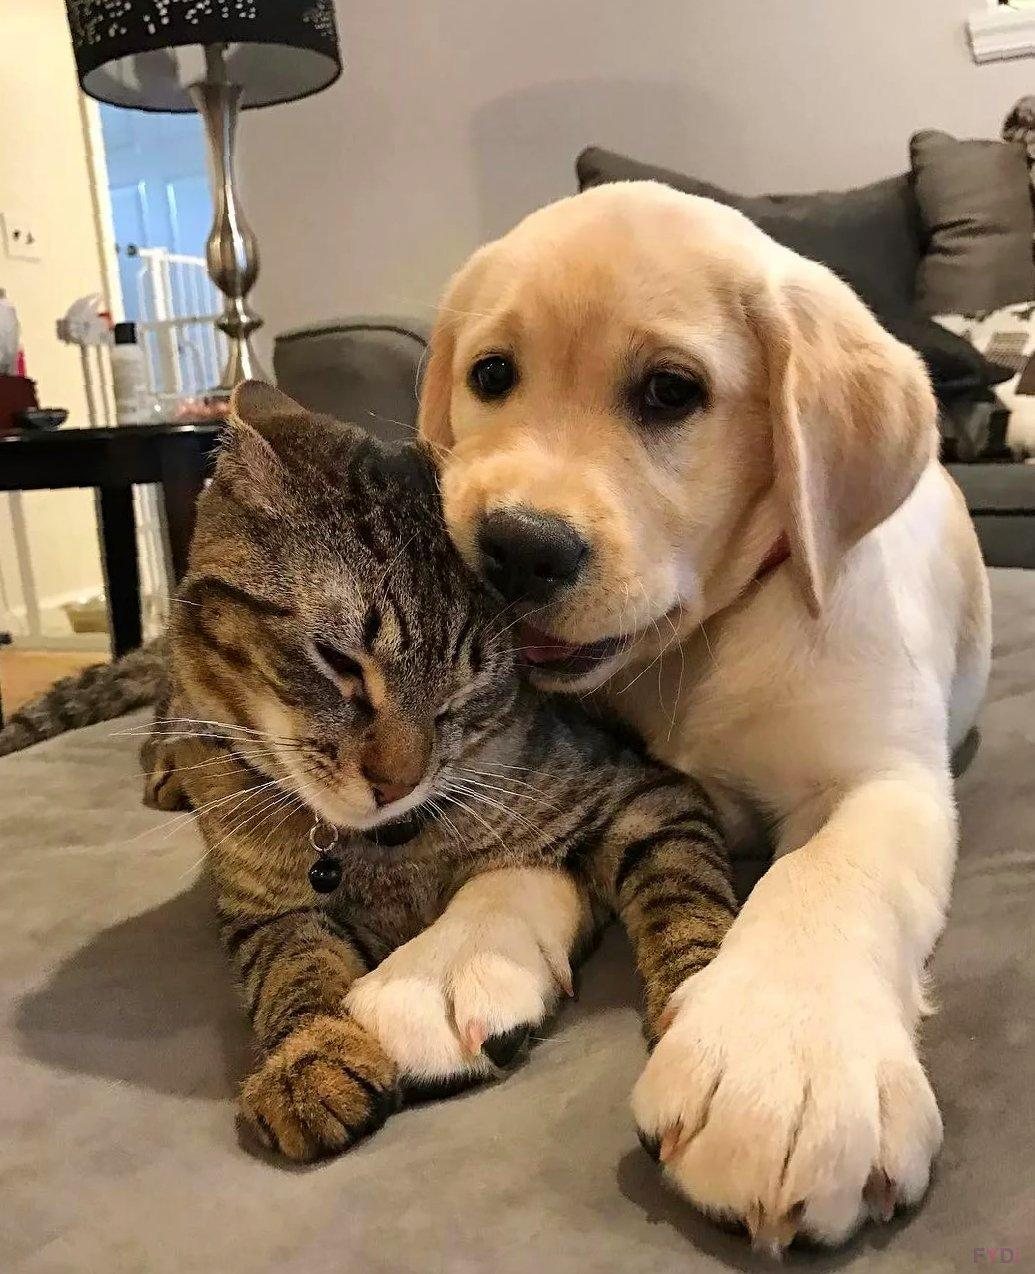animals: (432, 174, 1008, 784), (174, 310, 532, 1018)
